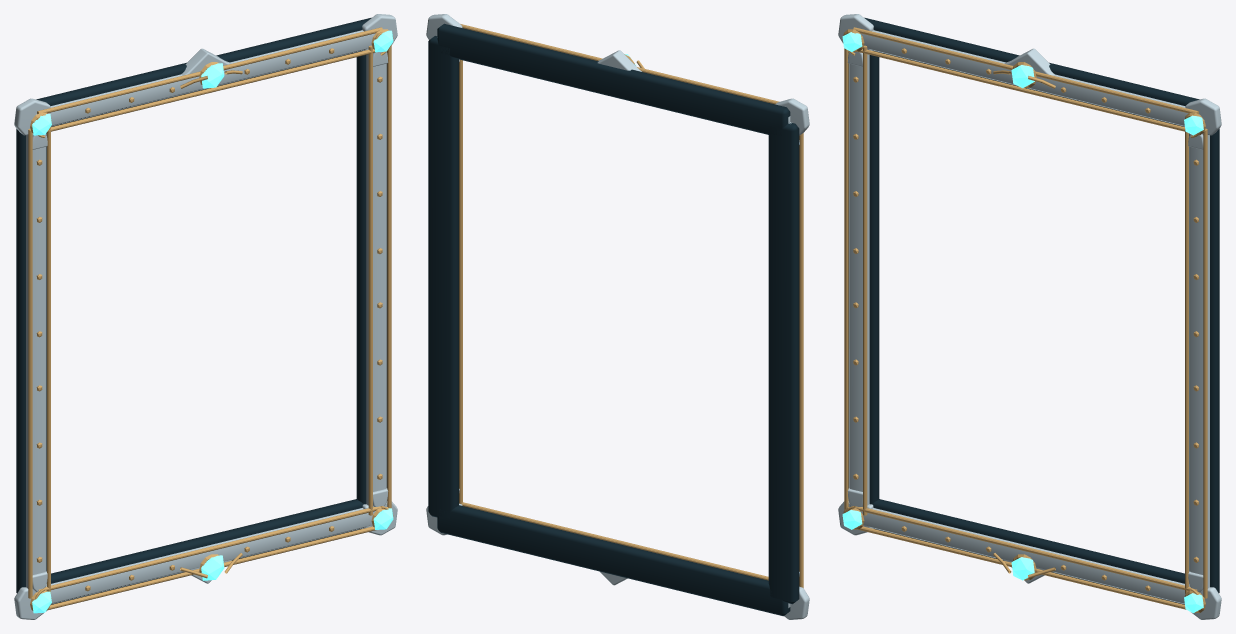
Rendered from card-rare.glb.
3 views of the same model, side by side, from view 1: azimuth 30°, elevation 25°; view 2: azimuth 150°, elevation 25°; view 3: azimuth 330°, elevation 25° (orthographic).
Visible parts, largest first — view 1: card-rare / Frame | hammered marine silver, card-rare / Frame | ink enamel recess, card-rare / Fittings | worn maritime brass, card-rare / Gem | abyssal opal; view 2: card-rare / Frame | ink enamel recess, card-rare / Fittings | worn maritime brass, card-rare / Frame | hammered marine silver; view 3: card-rare / Frame | hammered marine silver, card-rare / Frame | ink enamel recess, card-rare / Fittings | worn maritime brass, card-rare / Gem | abyssal opal.
Boxes of the visible parts, <box> form: card-rare / Frame | hammered marine silver: <box>14,14,397,619</box>; card-rare / Frame | ink enamel recess: <box>16,17,387,604</box>; card-rare / Fittings | worn maritime brass: <box>28,27,393,610</box>; card-rare / Gem | abyssal opal: <box>32,30,393,613</box>; card-rare / Frame | ink enamel recess: <box>428,23,799,616</box>; card-rare / Fittings | worn maritime brass: <box>459,24,803,587</box>; card-rare / Frame | hammered marine silver: <box>426,14,809,619</box>; card-rare / Frame | hammered marine silver: <box>838,14,1221,619</box>; card-rare / Frame | ink enamel recess: <box>848,17,1219,604</box>; card-rare / Fittings | worn maritime brass: <box>843,27,1207,612</box>; card-rare / Gem | abyssal opal: <box>842,32,1203,613</box>.
Bounding box in the file's own units: 6.61 × 8.82 × 0.5822.
